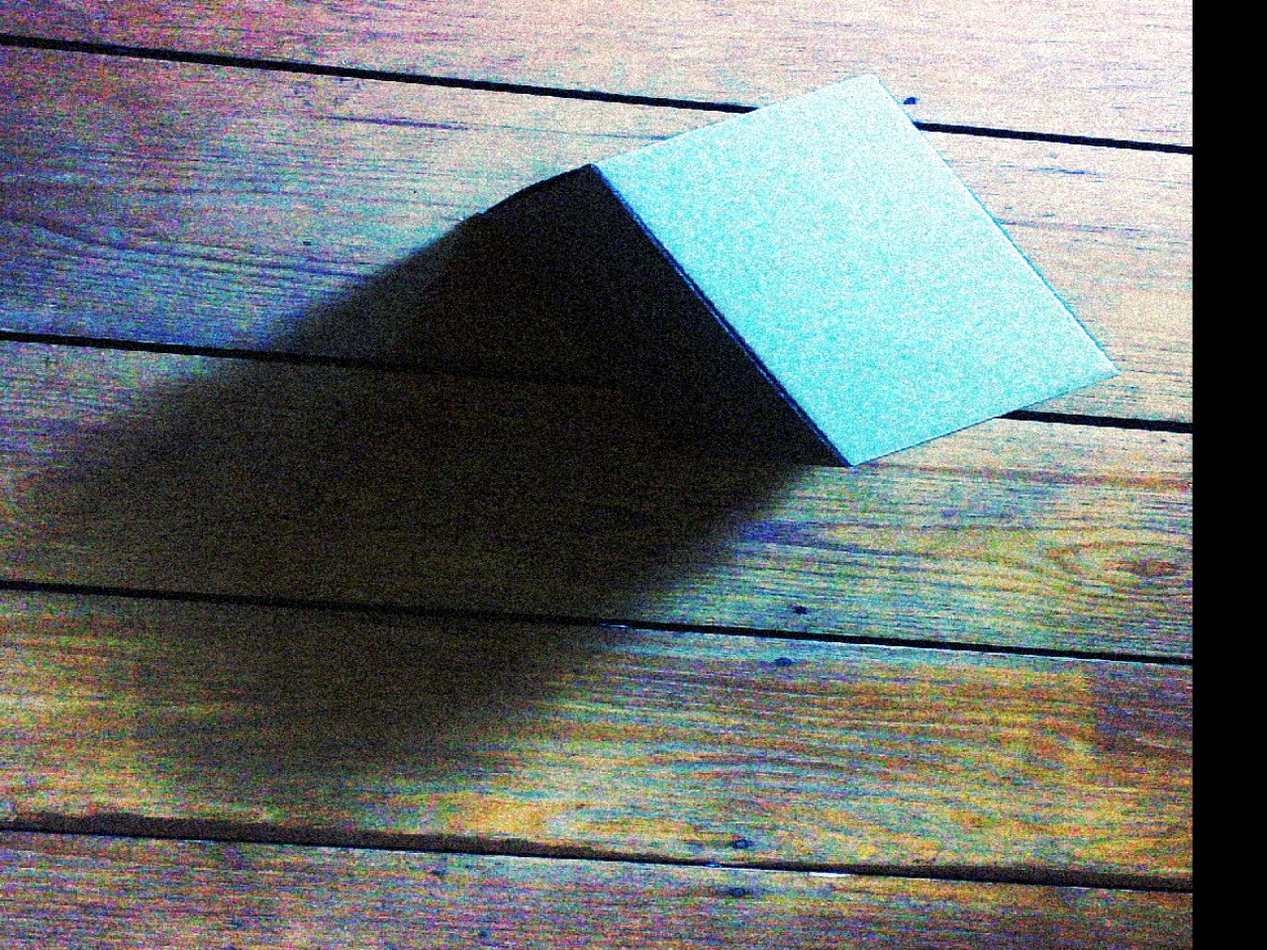good-parcel: (593, 62, 1135, 471)
